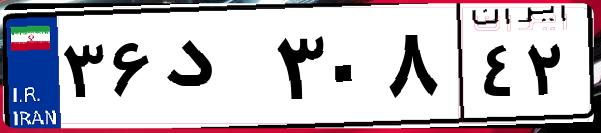0: (330, 28, 385, 110)
2: (525, 38, 570, 115)
3: (270, 28, 330, 110), (57, 26, 110, 100)
4: (475, 38, 525, 113)
6: (110, 28, 158, 98)
8: (385, 28, 445, 110)
د: (158, 20, 270, 120)
